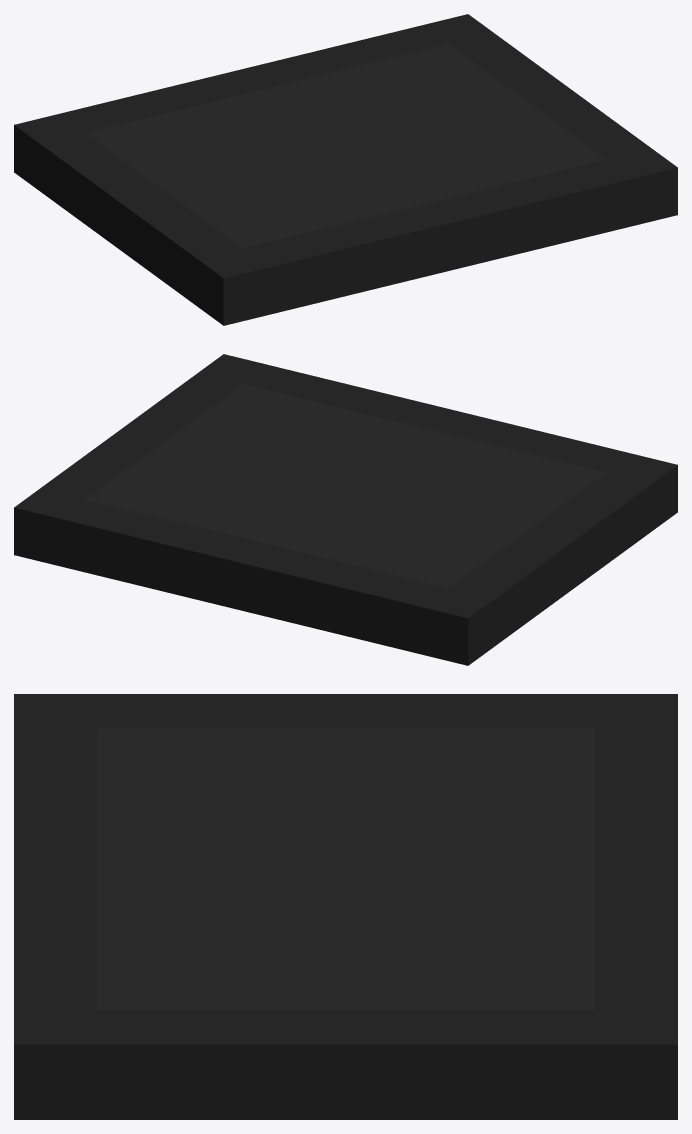
The model's file is computer_mouse_pad.glb.
The picture shows the model from 3 angles, top to bottom: view 1: azimuth 30°, elevation 25°; view 2: azimuth 150°, elevation 25°; view 3: azimuth 270°, elevation 25°; orthographic projection. The views are drawn at different scales.
Visible parts, largest first — view 1: Untitled; view 2: Untitled; view 3: Untitled.
Boxes of the visible parts, x1,y1,x2,y2 form: Untitled: (14,14,677,325); Untitled: (14,354,677,665); Untitled: (14,694,677,1119).
Size of the model in its own units: 0.3 by 0.03 by 0.24.
Materials: 1 (1 with a texture image).
